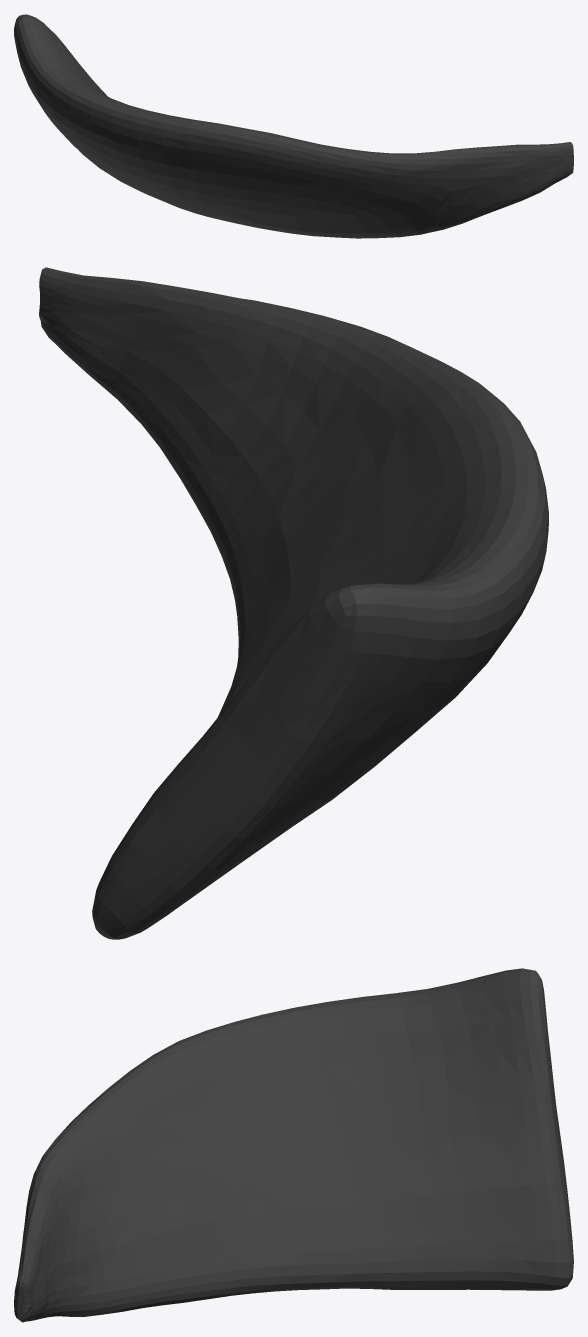
The model's file is m_arytenoideus_transversus_LO_R.glb.
3 views of the same model, one above another, from view 1: azimuth 30°, elevation 25°; view 2: azimuth 150°, elevation 25°; view 3: azimuth 270°, elevation 25° (orthographic). The views are drawn at different scales.
Parts seen in each view (by area): view 1: m_arytenoideus_transversus_LO_R; view 2: m_arytenoideus_transversus_LO_R; view 3: m_arytenoideus_transversus_LO_R.
Boxes of the visible parts, x1,y1,x2,y2 form: m_arytenoideus_transversus_LO_R: [14, 14, 573, 238]; m_arytenoideus_transversus_LO_R: [39, 267, 548, 939]; m_arytenoideus_transversus_LO_R: [14, 968, 573, 1322].
Bounding box in the file's own units: 0.0972 × 0.0476 × 0.0967.
1 material, 1 textured.
